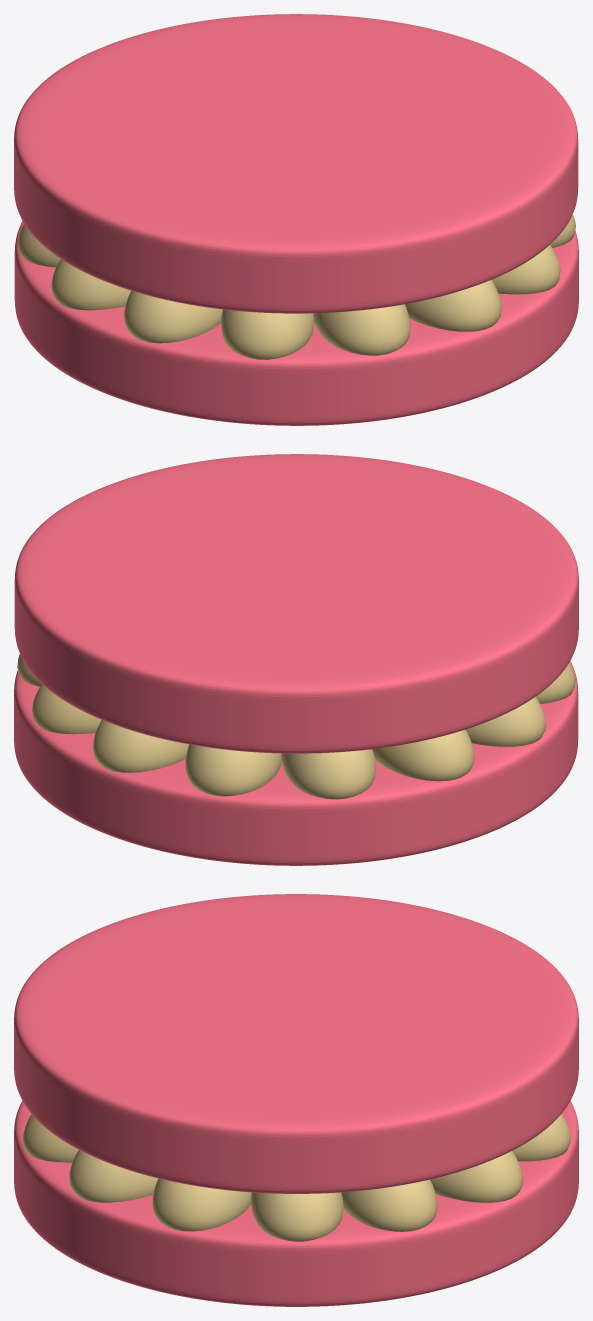
Rendered from gateau-fraise-non-cuit.fbx.
3 renders of one model, top to bottom at view 1: azimuth 30°, elevation 25°; view 2: azimuth 150°, elevation 25°; view 3: azimuth 270°, elevation 25°, orthographic.
Parts seen in each view (by area): view 1: genoise_2, genoise_1, fraise.005, fraise.004, fraise.006, fraise.003, fraise.007, fraise.002, fraise.008; view 2: genoise_2, genoise_1, fraise.010, fraise.009, fraise.008, fraise.011, fraise.007, fraise.012, fraise.006; view 3: genoise_2, genoise_1, fraise, fraise.001, fraise.013, fraise.012, fraise.002, fraise.003, fraise.011.
Boxes of the visible parts, x1,y1,x2,y2 form: genoise_2: [14, 14, 578, 313]; genoise_1: [14, 221, 578, 425]; fraise.005: [221, 309, 314, 359]; fraise.004: [313, 304, 410, 355]; fraise.006: [124, 291, 222, 343]; fraise.003: [405, 280, 501, 331]; fraise.007: [51, 259, 130, 310]; fraise.002: [492, 245, 560, 294]; fraise.008: [18, 224, 60, 267]; genoise_2: [14, 454, 578, 753]; genoise_1: [14, 661, 578, 865]; fraise.010: [185, 744, 281, 796]; fraise.009: [281, 749, 375, 799]; fraise.008: [372, 729, 474, 781]; fraise.011: [93, 720, 188, 772]; fraise.007: [465, 697, 545, 746]; fraise.012: [32, 684, 101, 734]; fraise.006: [536, 662, 575, 703]; genoise_2: [14, 894, 578, 1193]; genoise_1: [14, 1101, 578, 1306]; fraise: [251, 1192, 343, 1241]; fraise.001: [152, 1178, 251, 1231]; fraise.013: [341, 1179, 437, 1231]; fraise.012: [430, 1151, 522, 1202]; fraise.002: [69, 1150, 158, 1202]; fraise.003: [23, 1114, 78, 1162]; fraise.011: [512, 1114, 570, 1161].
Size of the model in its own units: 199 by 70.87 by 199.
